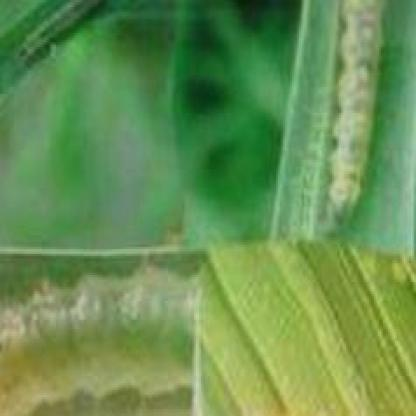leaf-folder: (5, 272, 188, 395), (310, 0, 388, 236), (7, 0, 116, 76)
